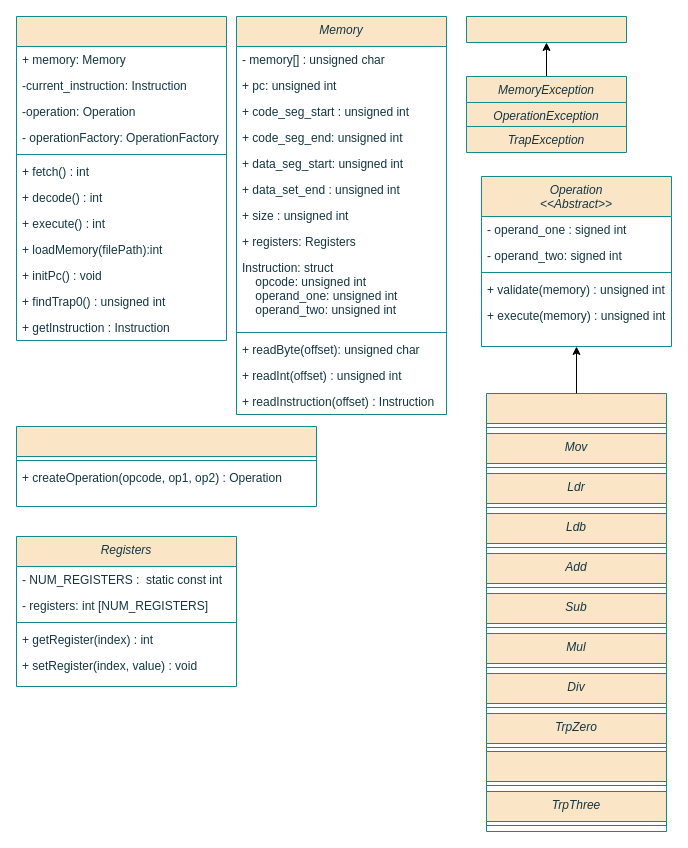
Image size: 688x848. Some labels were removed from this diagram. Here are the shapes that lost their labels. From the top down, the box of each, then its label:
(466, 16, 626, 42): std::runtime_error
(16, 16, 226, 340): VirtualMachine
(486, 392, 666, 434): Jmp
(16, 426, 316, 506): OperationFactory
(486, 750, 666, 792): TrpOne
